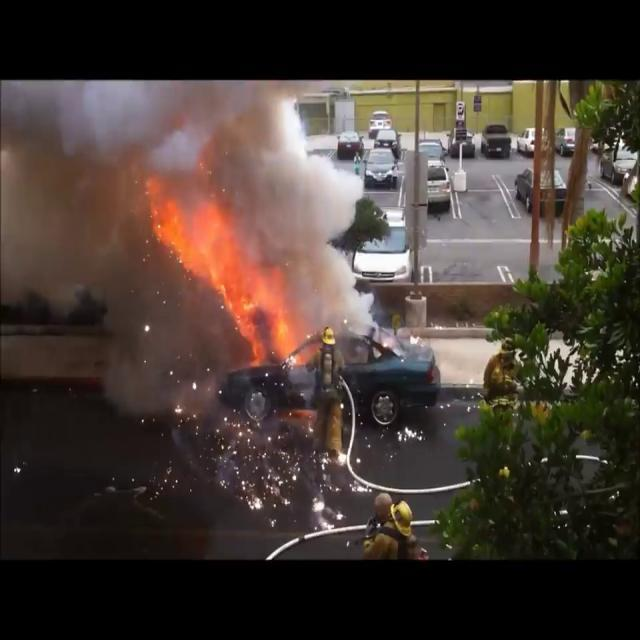Fire: (148, 193, 296, 359)
Smoke: (137, 81, 380, 331)
